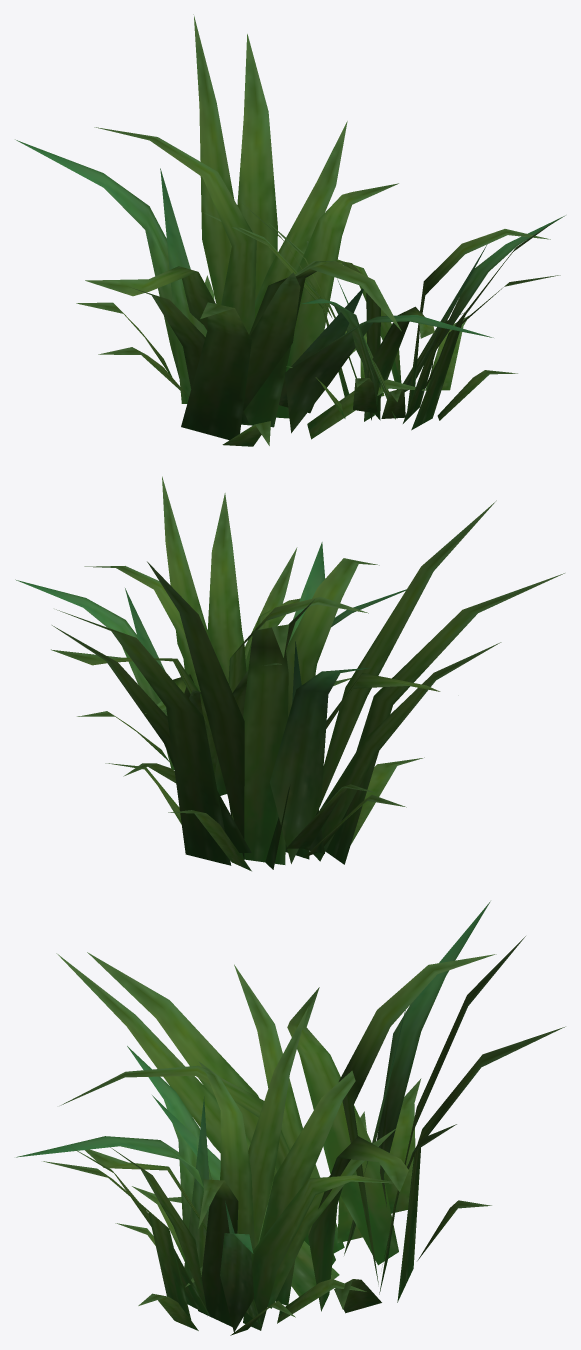
The model's file is grass_C1.fbx.
3 renders of one model, top to bottom at view 1: azimuth 30°, elevation 25°; view 2: azimuth 150°, elevation 25°; view 3: azimuth 270°, elevation 25°, orthographic. The views are drawn at different scales.
Visible parts, largest first — view 1: grass_C1; view 2: grass_C1; view 3: grass_C1.
Part boxes in pixels (x1,y1,x2,y2): grass_C1: (15, 14, 565, 446); grass_C1: (15, 476, 564, 871); grass_C1: (16, 901, 565, 1335).
Size of the model in its own units: 4.75 by 3.4 by 4.57.
